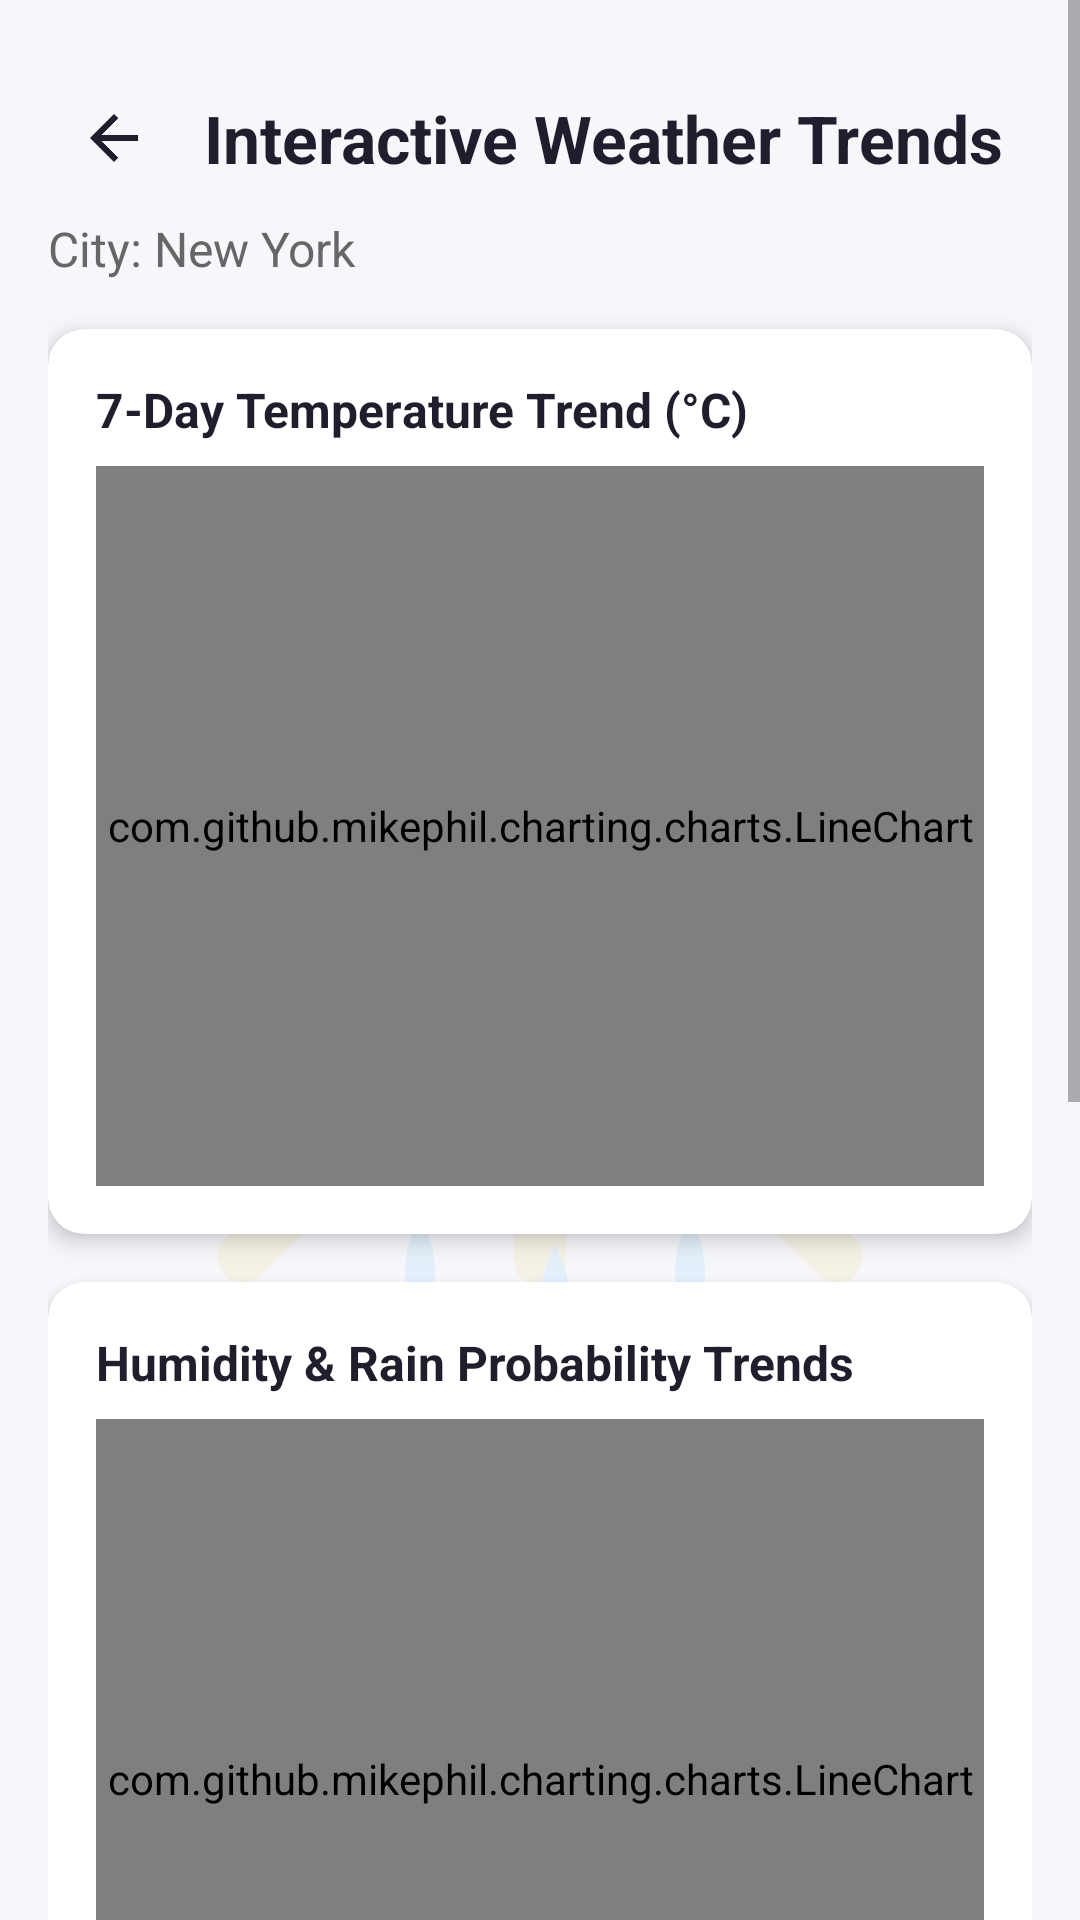

Screen size 1080px×1920px. Icon name, then its center in pixels as point (x, y):
Back to Home: point (114, 138)
